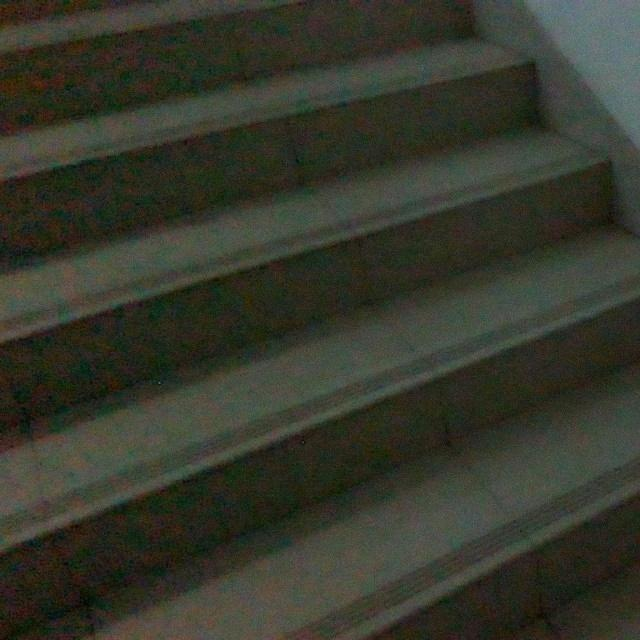stair: (7, 3, 640, 621)
